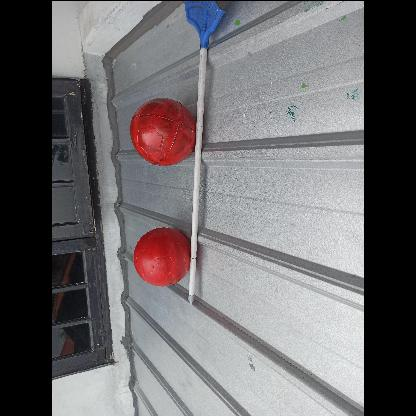red_ball: (130, 100, 194, 164), (134, 226, 192, 286)
